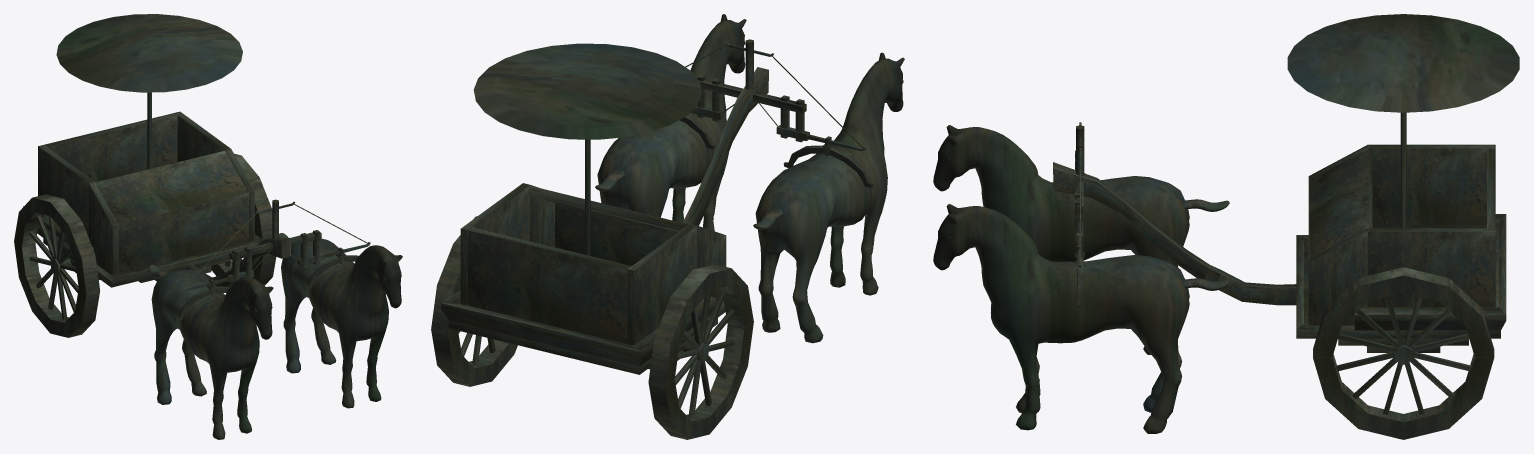
The model's file is 汉代青铜马车.FBX.
3 views of the same model, side by side, from view 1: azimuth 30°, elevation 25°; view 2: azimuth 150°, elevation 25°; view 3: azimuth 270°, elevation 25° (orthographic). The views are drawn at different scales.
Visible parts, largest first — view 1: Box05, Cylinder002, lod1_009, lod1_010, Box009, Box012, Box008, Box006, Box010, Box007, Box011, Box013 (+1 smaller); view 2: Box05, Cylinder002, lod1_009, Box008, lod1_010, Box006, Box009, Box007, Box012, Box011, Box010, Box018 (+3 smaller); view 3: Box05, lod1_010, Cylinder002, lod1_009, Box006, Box007, Box012, Box011, Box021, Box022, Box008, Box020 (+2 smaller).
Part boxes in pixels (box(x1,y1,x2,y2)): Box05: box(14, 153, 370, 337); Cylinder002: box(56, 14, 242, 169); lod1_009: box(148, 264, 273, 439); lod1_010: box(279, 233, 402, 408); Box009: box(118, 192, 248, 274); Box012: box(95, 150, 248, 224); Box008: box(40, 111, 180, 182); Box006: box(38, 145, 94, 237); Box010: box(89, 182, 118, 275); Box007: box(175, 111, 230, 161); Box011: box(225, 149, 254, 242); Box013: box(48, 216, 67, 319); Box05: box(431, 39, 873, 439); Cylinder002: box(473, 43, 701, 255); lod1_009: box(753, 52, 904, 343); Box008: box(462, 225, 635, 344); lod1_010: box(595, 14, 746, 231); Box006: box(627, 224, 697, 345); Box009: box(555, 202, 677, 266); Box007: box(460, 183, 530, 305); Box012: box(528, 186, 688, 232); Box011: box(530, 185, 554, 247); Box010: box(697, 225, 726, 300); Box018: box(688, 290, 711, 417); Box05: box(1053, 122, 1506, 439); lod1_010: box(933, 204, 1229, 433); Cylinder002: box(1287, 14, 1519, 227); lod1_009: box(933, 125, 1229, 354); Box006: box(1368, 144, 1495, 225); Box007: box(1368, 228, 1495, 307); Box012: box(1309, 149, 1372, 258); Box011: box(1308, 228, 1367, 325); Box021: box(1338, 333, 1470, 371); Box022: box(1336, 333, 1469, 371); Box008: box(1487, 147, 1495, 228); Box020: box(1356, 309, 1454, 398).
Bounding box in the file's own units: 131 × 168 × 264.
